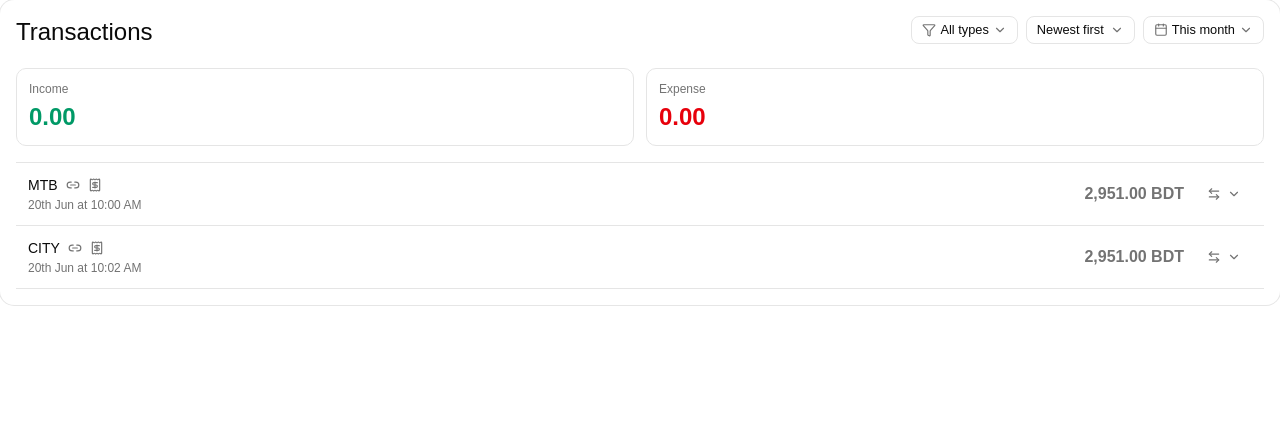
it: TransactionsSection › expands a paired row and shows both source SMS messages
Expected: the text "2,951.00 BDT" is shown 2 times, [1084,182,1184,206]; [1084,245,1184,269]
Click the button with aria-label "toggle message for mtb": (85, 205) [28,177,1252,212]
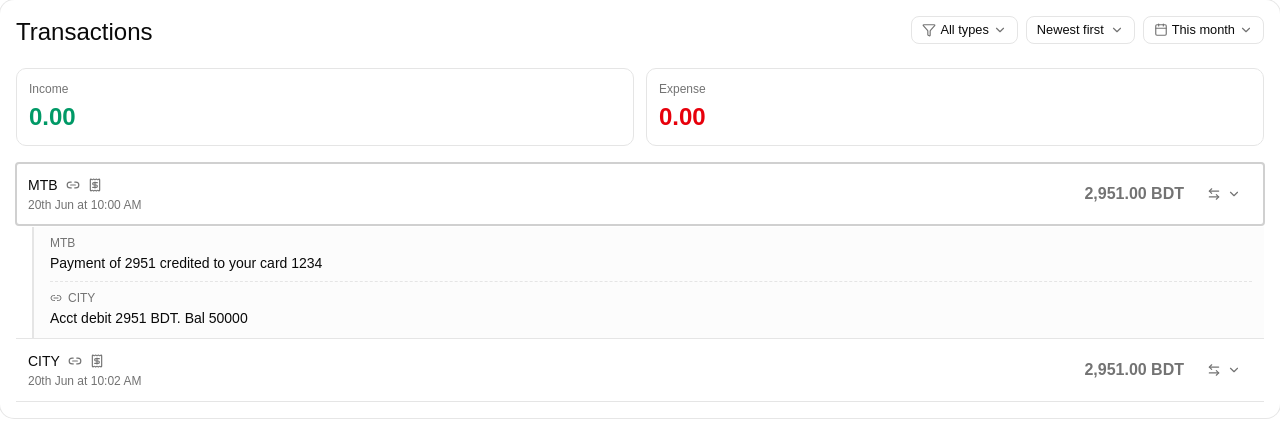
Expected: the text "Payment of 2951 credited to your card 1234" is shown, [50,255,322,271]
Expected: the text "Acct debit 2951 BDT. Bal 50000" is shown, [50,310,248,326]
